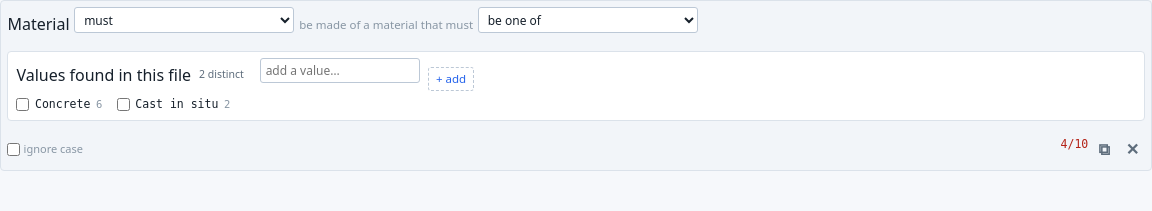
MaterialRow — touched gating › shows no error for an empty enumeration until the row is touched
Expected: the text "Tick at least one value" is not shown
Click the dropdown named "Material operator".
click(588, 20)  # box [478,7,698,33]
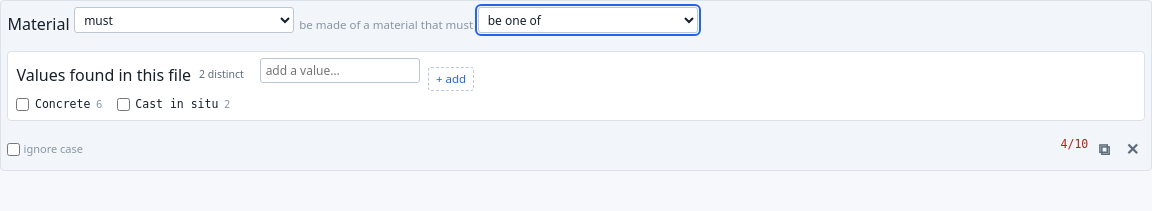
Press Tab
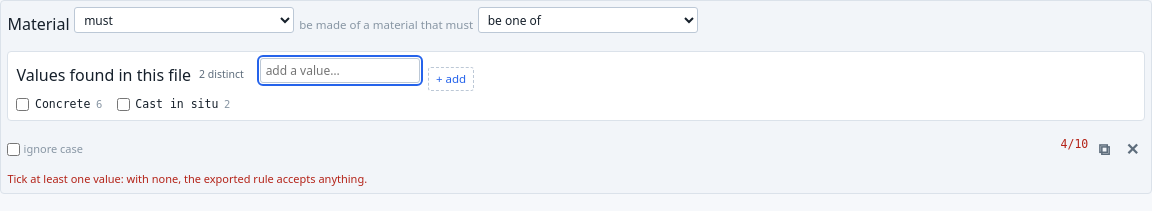
Result: the text "Tick at least one value" is shown at [7,171,367,186]
